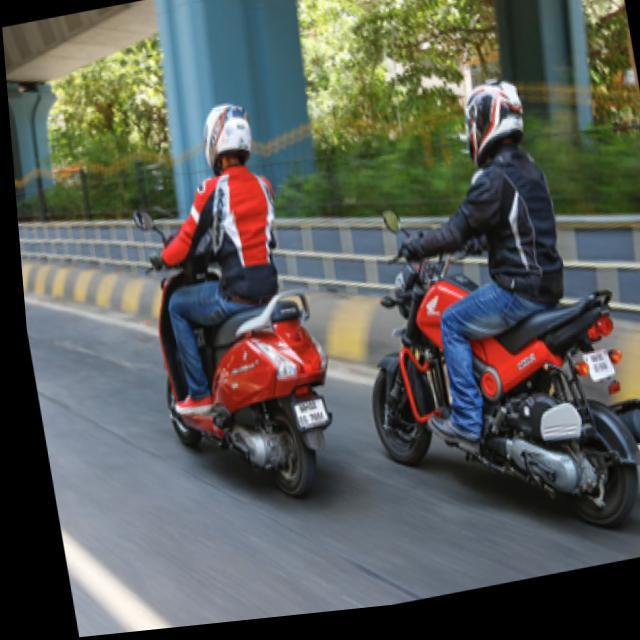Helmet: (454, 68, 536, 164), (194, 93, 264, 178)
